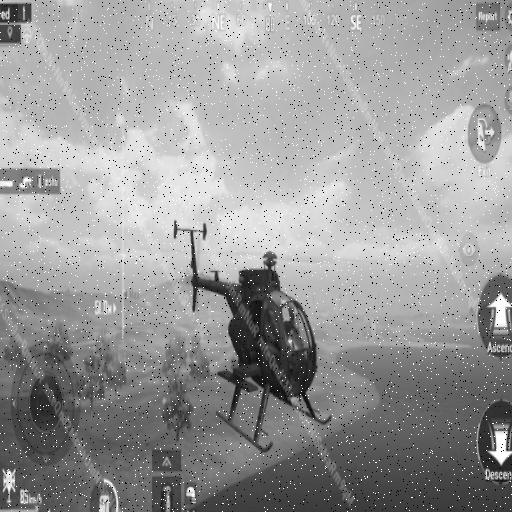helicopter: (174, 220, 350, 458)
